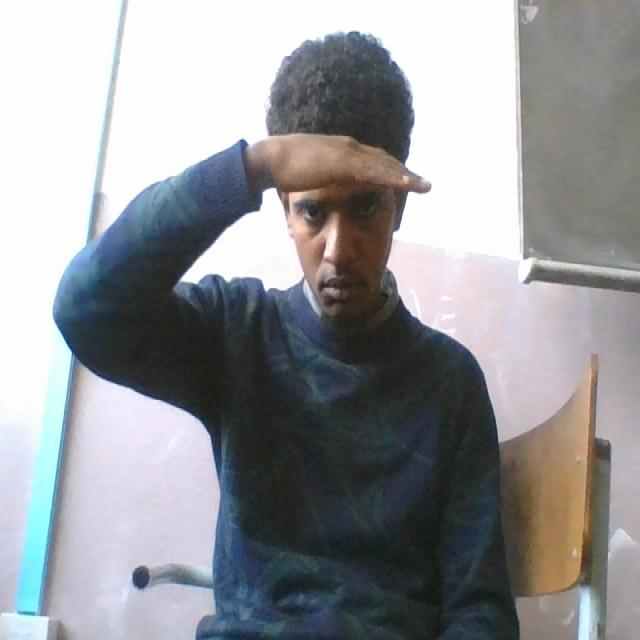abat: (227, 97, 444, 221)
